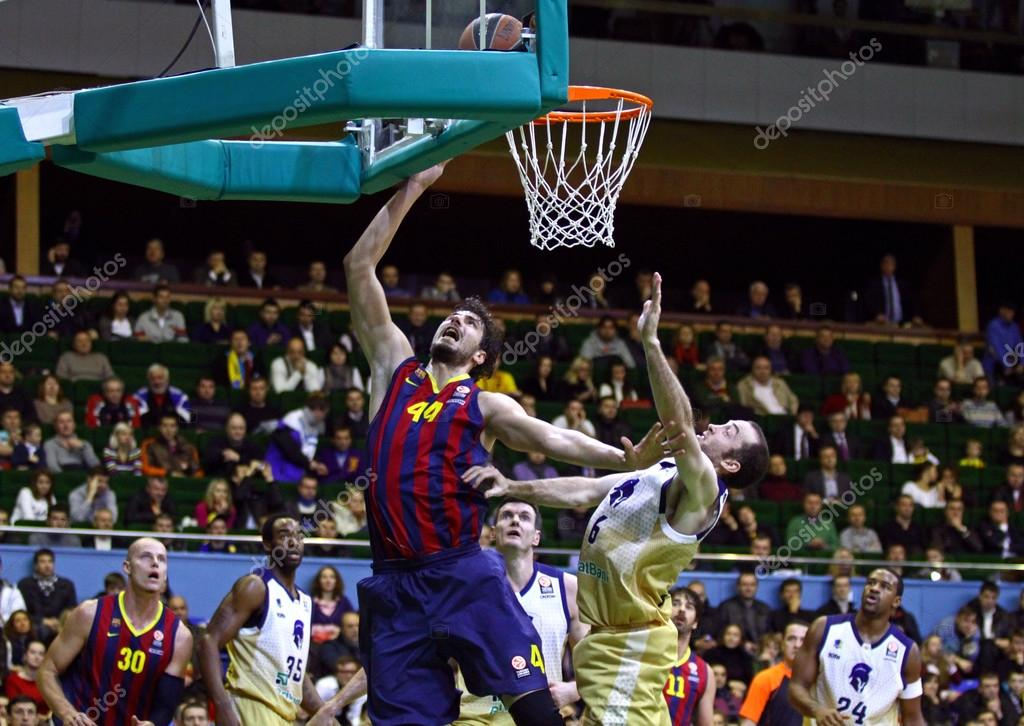defense: (580, 262, 802, 726)
shoot: (343, 0, 568, 724)
